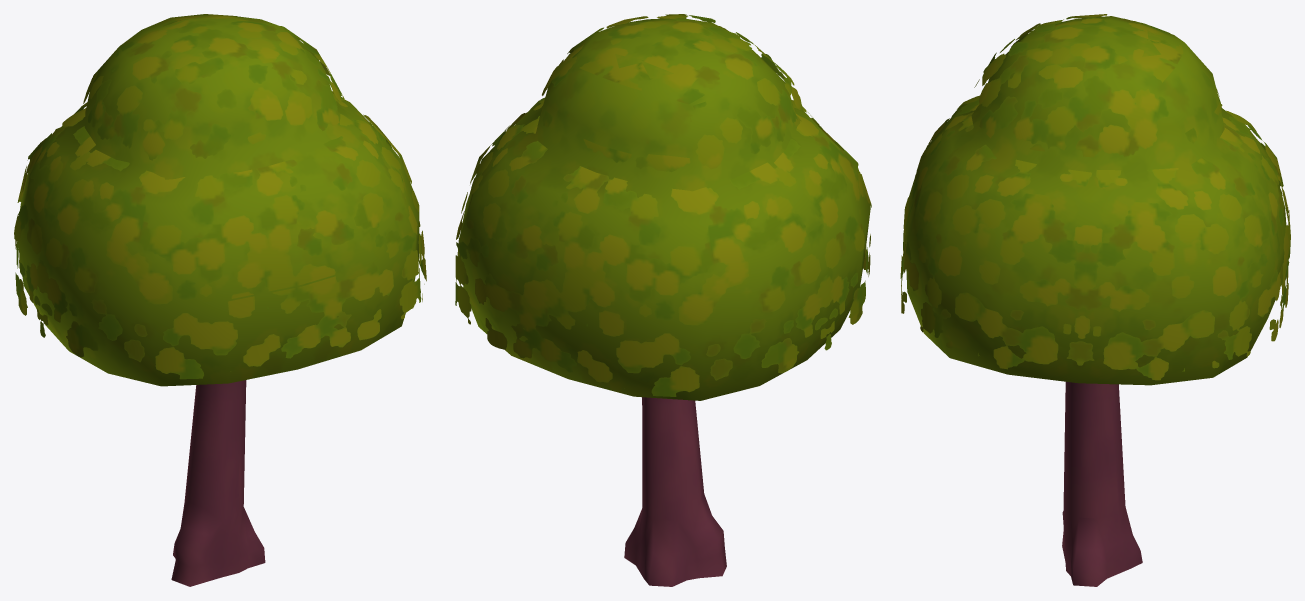
File: Tree_2.fbx
3 views of the same model, side by side, from view 1: azimuth 30°, elevation 25°; view 2: azimuth 150°, elevation 25°; view 3: azimuth 270°, elevation 25° (orthographic).
Parts seen in each view (by area): view 1: Tree_2; view 2: Tree_2; view 3: Tree_2.
Boxes of the visible parts, x1=… form: Tree_2: x1=14, y1=14, x2=426, y2=586; Tree_2: x1=455, y1=14, x2=871, y2=586; Tree_2: x1=900, y1=14, x2=1290, y2=586.
Size of what is drawn, in the model's own units: 195 by 287 by 190.
